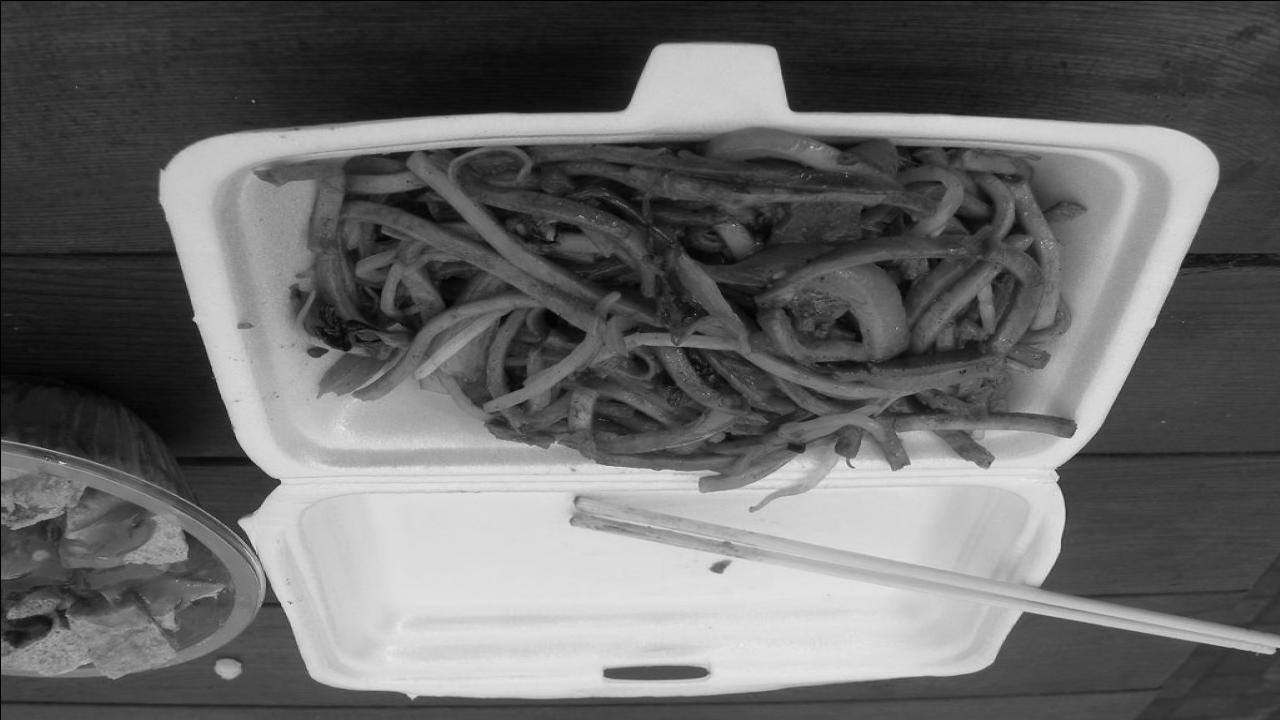chopstick: (574, 495, 1280, 647)
